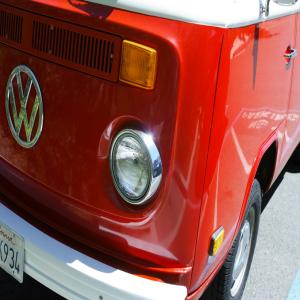Vehicle-registration-plate: (1, 222, 24, 283)
